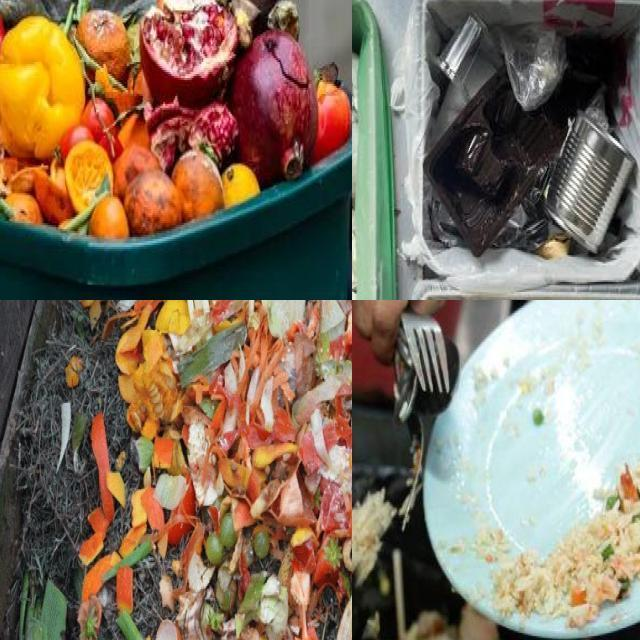Garbage: (8, 300, 352, 640), (495, 462, 640, 627)
Metal: (544, 112, 635, 252)
Plastic: (424, 37, 614, 256)
Plastic_Straw: (392, 549, 406, 640)
contaminated_waste: (423, 29, 639, 256), (433, 16, 504, 144)
